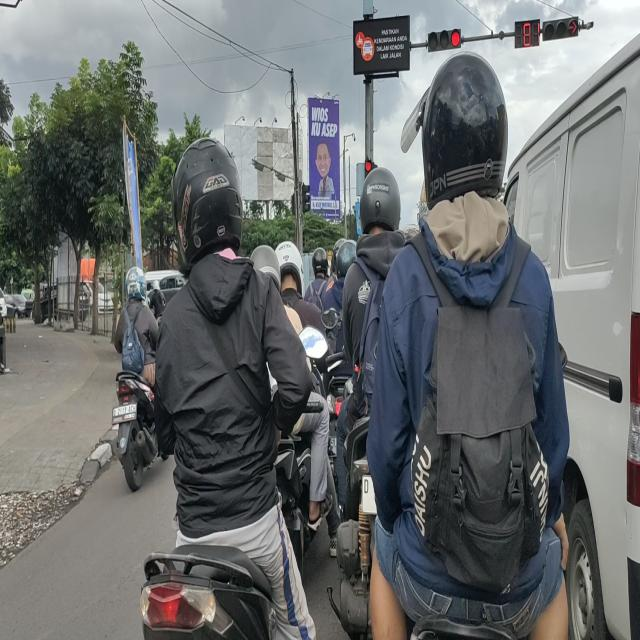helmet: (424, 51, 508, 212), (176, 153, 246, 258), (361, 165, 407, 242), (252, 244, 281, 290), (277, 243, 304, 288), (333, 238, 359, 278), (125, 266, 146, 300), (310, 244, 329, 281)
